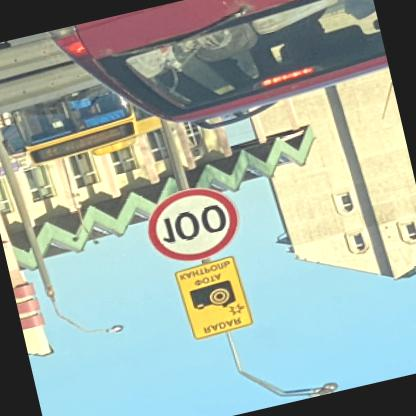speedlimit: (140, 183, 245, 271)
